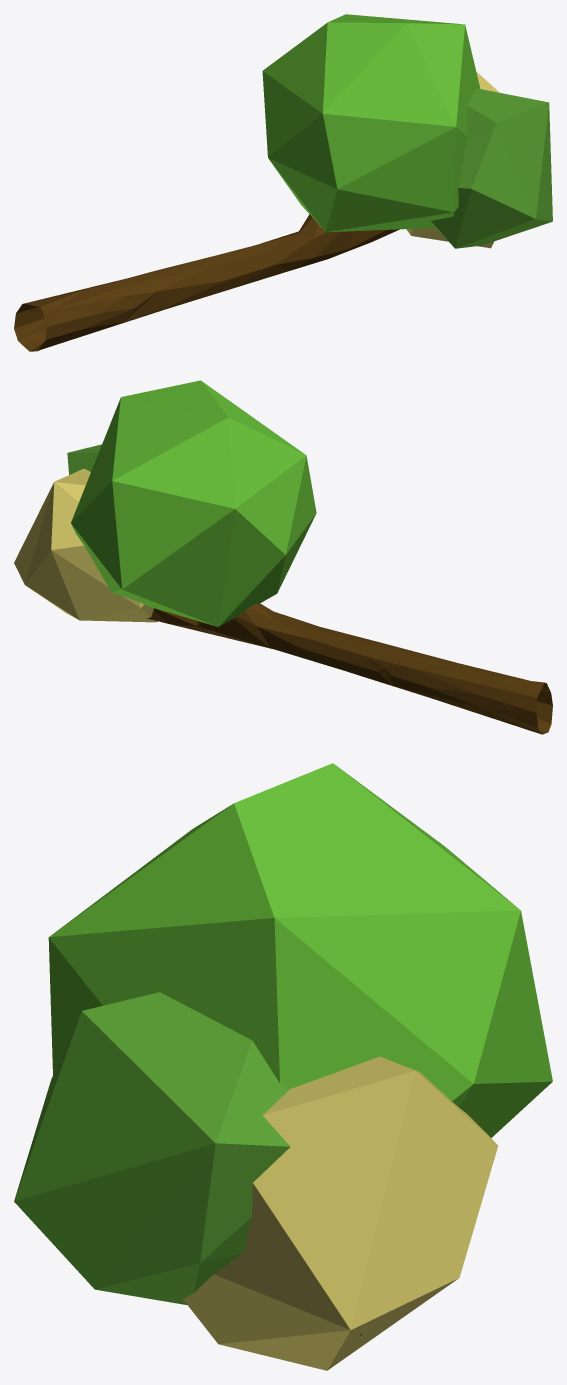
Rendered from treebranch.glb.
3 renders of one model, top to bottom at view 1: azimuth 30°, elevation 25°; view 2: azimuth 150°, elevation 25°; view 3: azimuth 270°, elevation 25°, orthographic. The views are drawn at different scales.
Visible parts, largest first — view 1: Icosphere.005, Cube.001, Icosphere.003, Icosphere.004; view 2: Icosphere.005, Cube.001, Icosphere.004, Icosphere.003; view 3: Icosphere.005, Icosphere.004, Icosphere.003.
Part boxes in pixels (x1=…): Icosphere.005: x1=262, y1=14, x2=480, y2=232; Cube.001: x1=14, y1=214, x2=399, y2=351; Icosphere.003: x1=431, y1=88, x2=552, y2=248; Icosphere.004: x1=406, y1=72, x2=499, y2=248; Icosphere.005: x1=71, y1=380, x2=316, y2=626; Cube.001: x1=147, y1=603, x2=552, y2=734; Icosphere.004: x1=14, y1=468, x2=157, y2=622; Icosphere.003: x1=67, y1=444, x2=101, y2=474; Icosphere.005: x1=48, y1=763, x2=552, y2=1137; Icosphere.004: x1=183, y1=1056, x2=498, y2=1370; Icosphere.003: x1=14, y1=992, x2=290, y2=1305.
Size of the model in its own units: 3.49 by 1.61 by 1.63.
